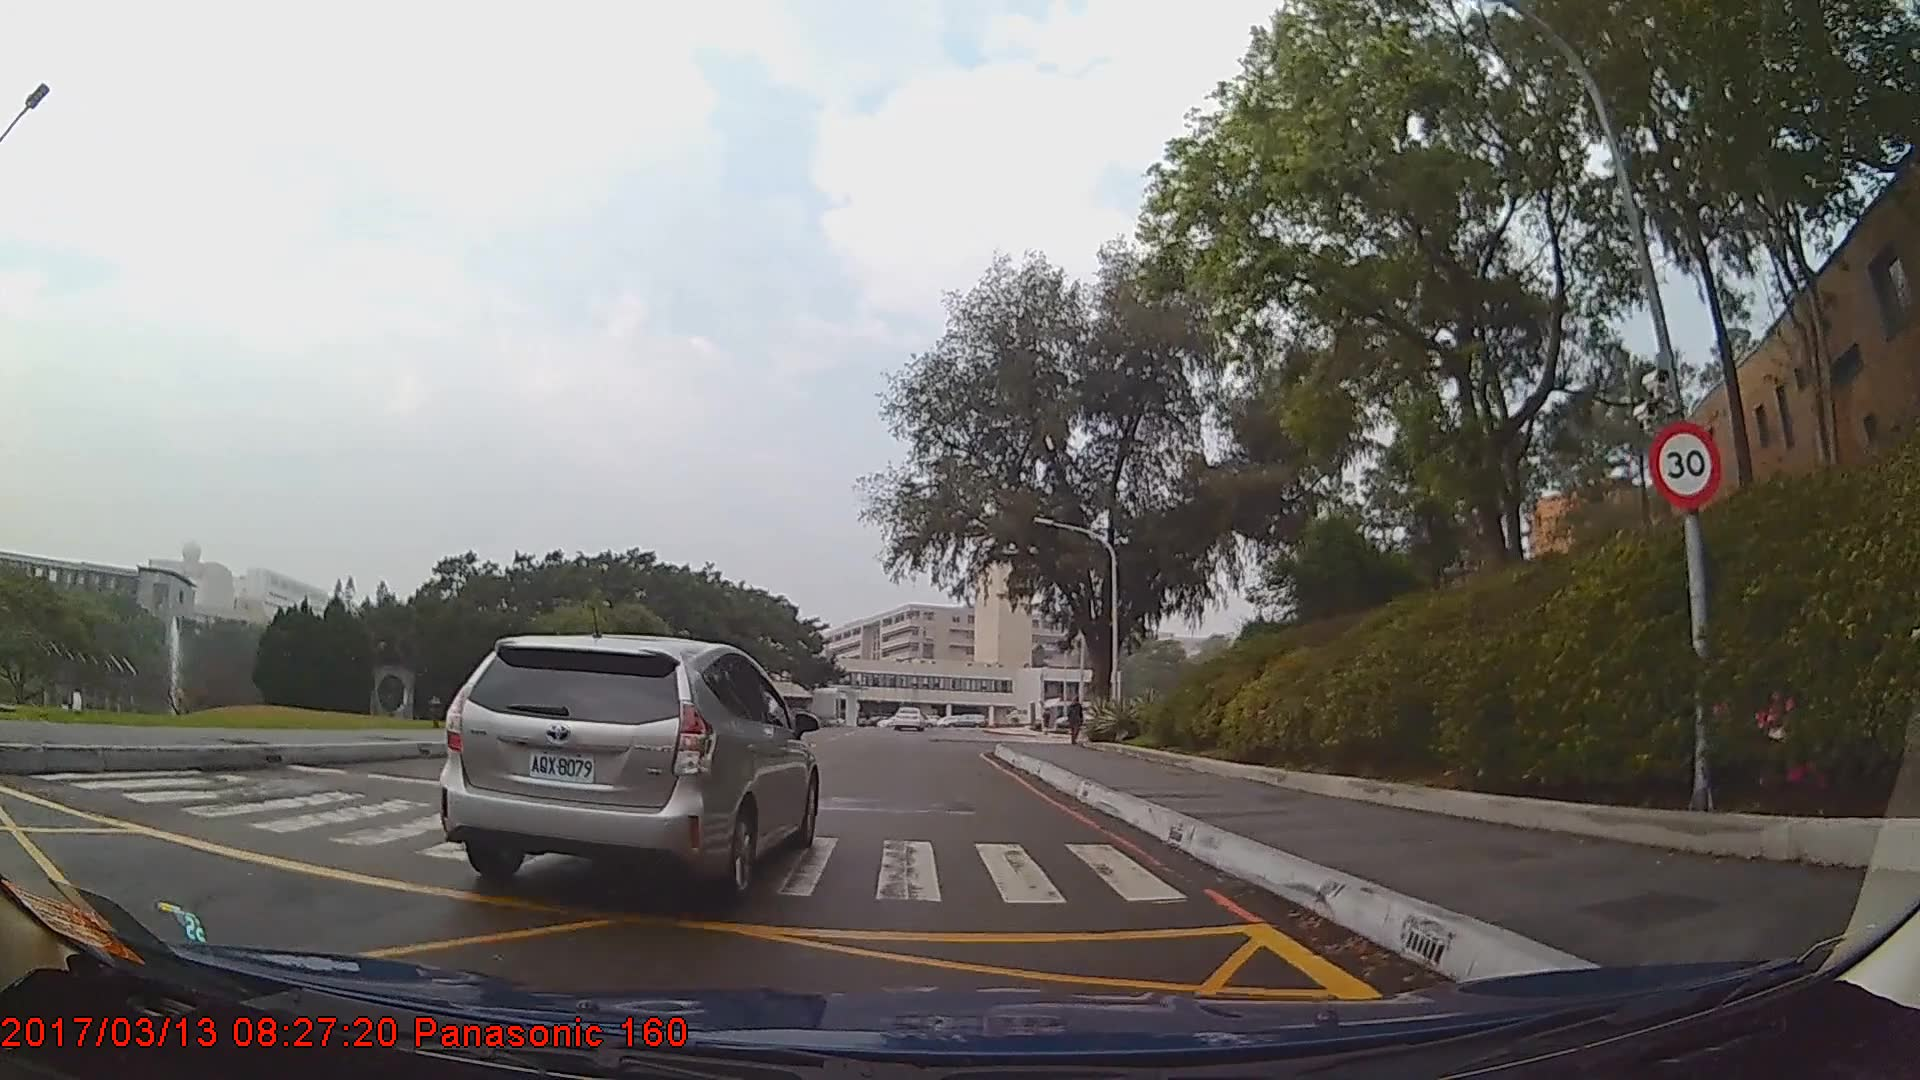pedestrian: (1067, 698, 1087, 749)
vehicle: (433, 628, 819, 900), (891, 705, 924, 732)
